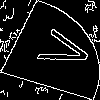V: (25, 25, 96, 73)
